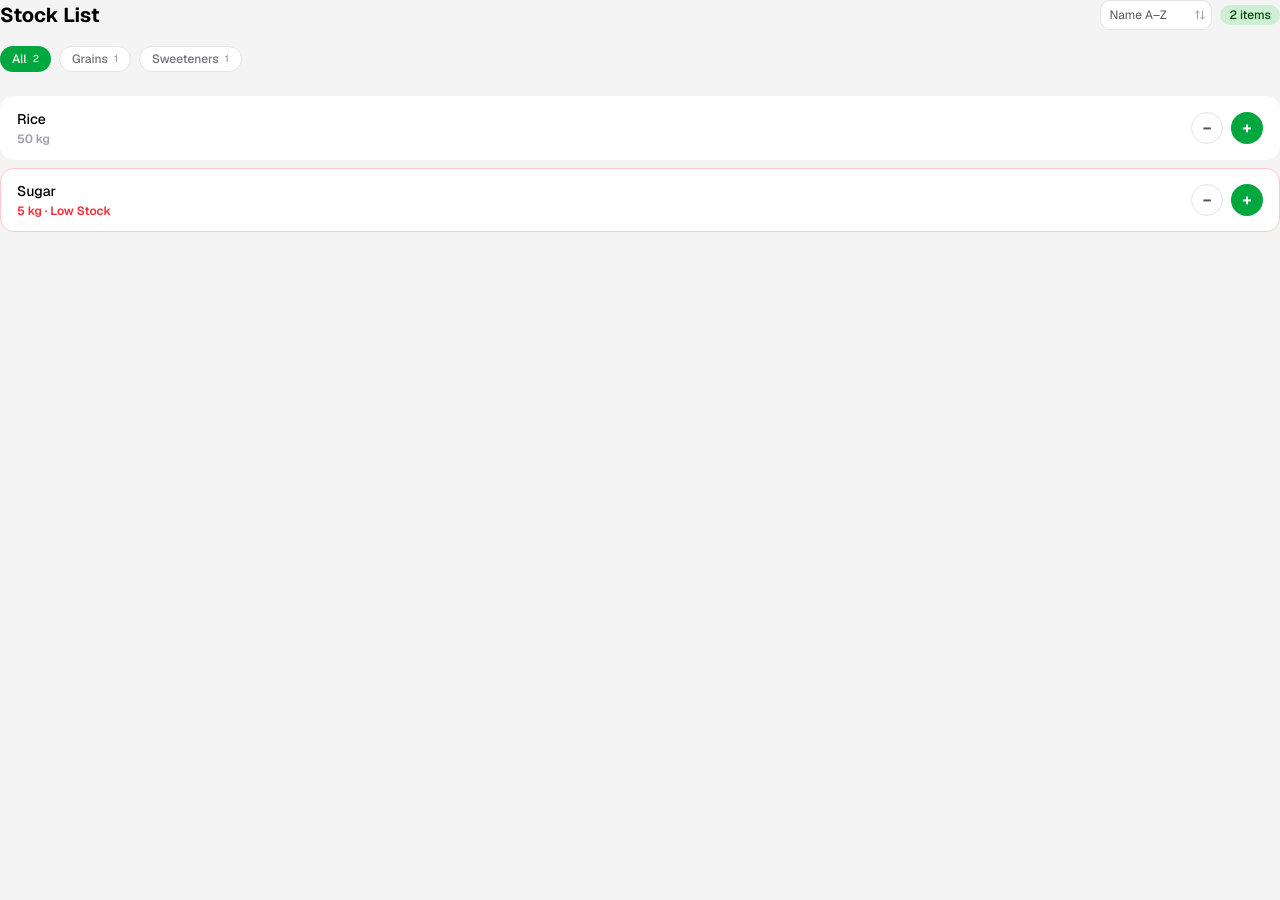
Test: HomeClient CRUD Operations › Adjust Quantity Dialog › opens dialog when + button clicked
What coordinates should you click on to do the following:
click the button "+" in the row of "Rice"
I would click on:
 (1247, 128)
Its box is [1231,112,1263,144].
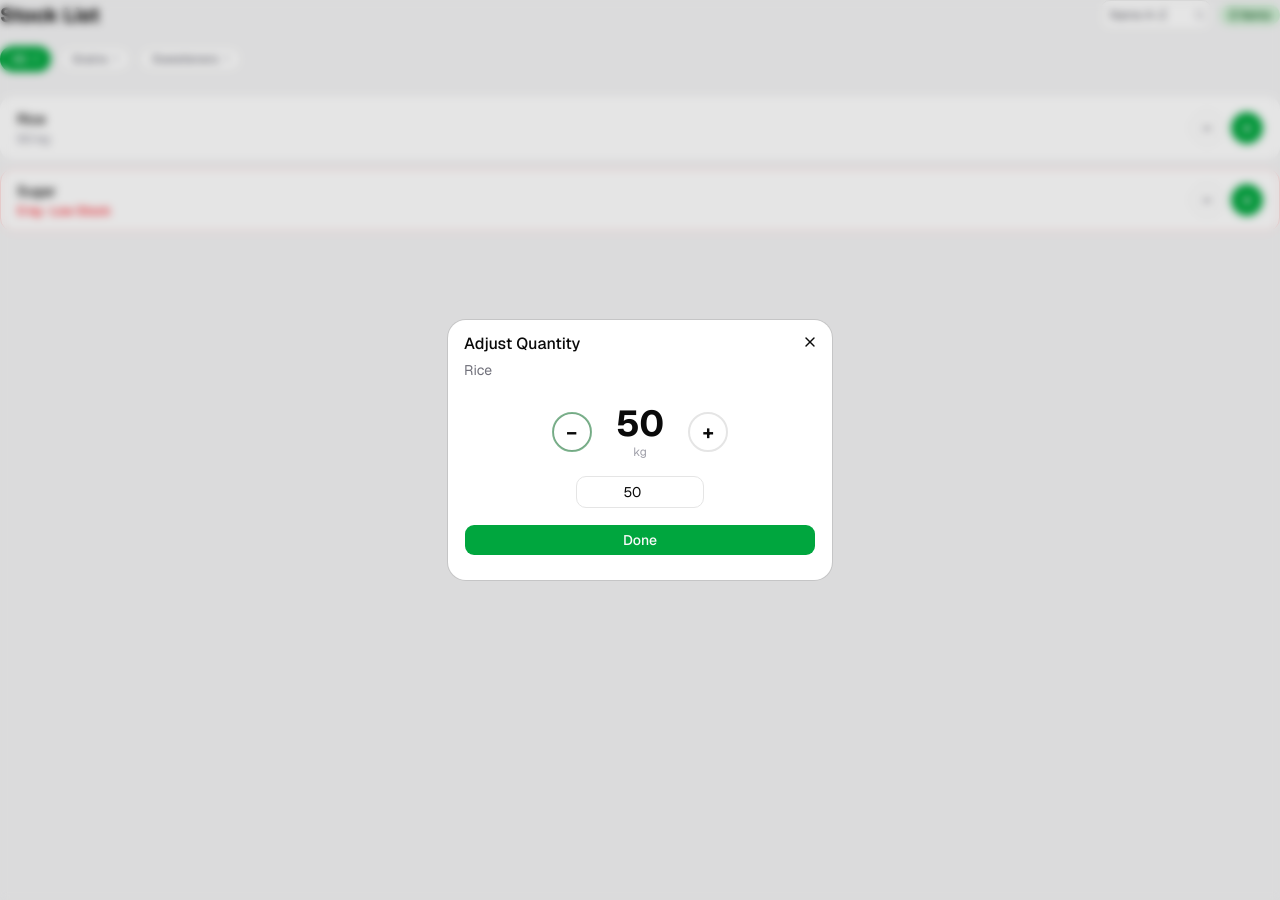
expect the heading "Adjust Quantity" is shown: met, box [464,333,580,354]
expect the number field showing "50" is shown: met, box [576,476,704,508]
